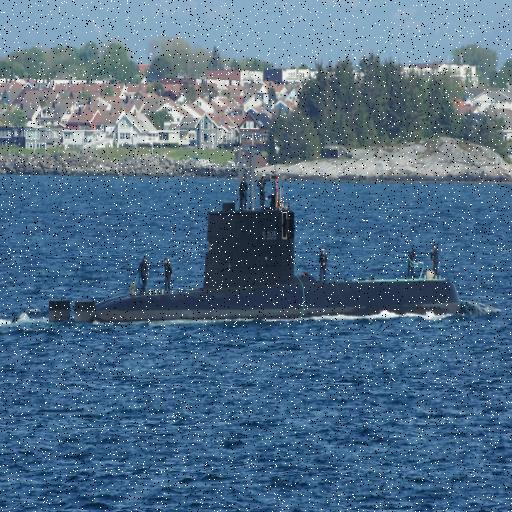submarine: (49, 146, 464, 324)
